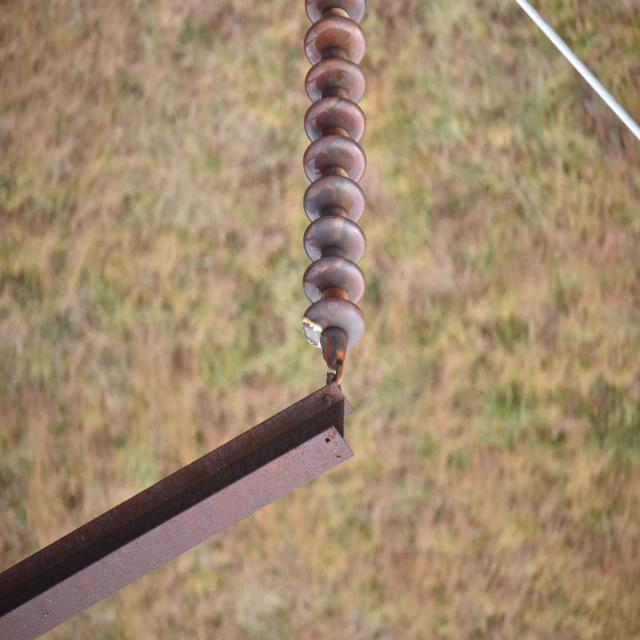insulator: (302, 1, 366, 352)
